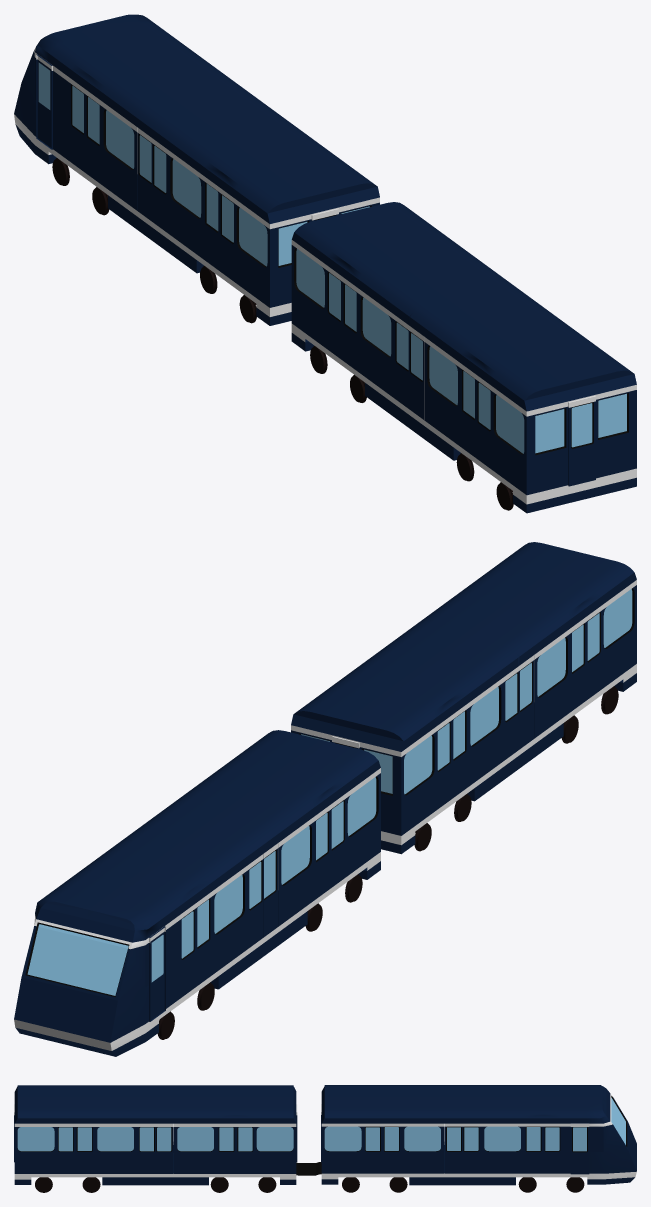
File: Train_endV.FBX
3 views of the same model, one above another, from view 1: azimuth 30°, elevation 25°; view 2: azimuth 150°, elevation 25°; view 3: azimuth 270°, elevation 25° (orthographic). The views are drawn at different scales.
Visible parts, largest first — view 1: Head, Head001, Cylinder002, Cylinder001; view 2: Head001, Head, Cylinder002, Cylinder001; view 3: Head001, Head, Cylinder001, Cylinder002, Plane007, Cylinder009, Cylinder011, Cylinder010, Cylinder012.
Boxes of the visible parts, box(x1,y1,x2,y2) form: Head: box(291, 202, 636, 513); Head001: box(14, 14, 379, 325); Cylinder002: box(310, 346, 513, 510); Cylinder001: box(350, 375, 474, 481); Head001: box(14, 730, 380, 1056); Head: box(291, 542, 636, 854); Cylinder002: box(414, 686, 618, 851); Cylinder001: box(454, 715, 578, 821); Head001: box(321, 1085, 636, 1185); Head: box(14, 1085, 297, 1185); Cylinder001: box(82, 1177, 228, 1192); Cylinder002: box(35, 1177, 276, 1192); Plane007: box(296, 1162, 321, 1175); Cylinder009: box(389, 1177, 407, 1192); Cylinder011: box(566, 1177, 584, 1192); Cylinder010: box(342, 1177, 359, 1192); Cylinder012: box(518, 1177, 536, 1192).
Size of the model in its own units: 104 by 115 by 821.
